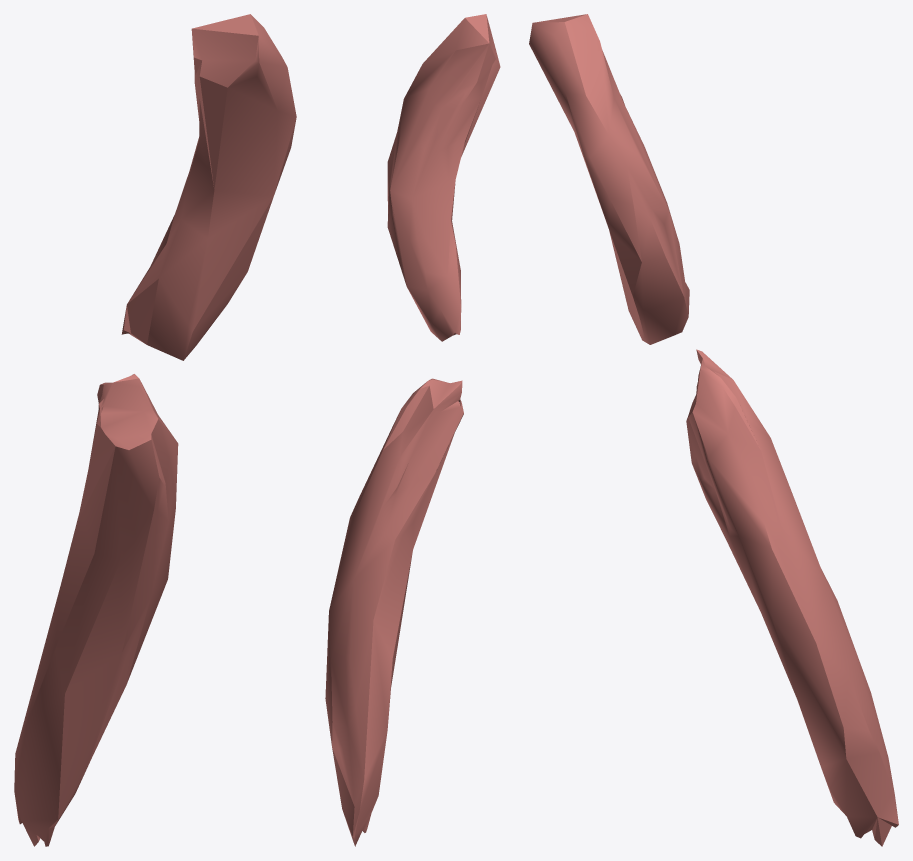
The model's file is fma22891_fj1551m.glb.
The picture shows the model from 3 angles, left to right: view 1: azimuth 30°, elevation 25°; view 2: azimuth 150°, elevation 25°; view 3: azimuth 270°, elevation 25°; orthographic projection. The views are drawn at different scales.
Visible parts, largest first — view 1: FMA22891_FJ1551M; view 2: FMA22891_FJ1551M; view 3: FMA22891_FJ1551M.
Part boxes in pixels (left/top/right/bottom): FMA22891_FJ1551M: left=14, top=14, right=296, bottom=846; FMA22891_FJ1551M: left=325, top=14, right=500, bottom=846; FMA22891_FJ1551M: left=529, top=14, right=898, bottom=846.
Bounding box in the file's own units: 0.00678 × 0.0435 × 0.0174.
